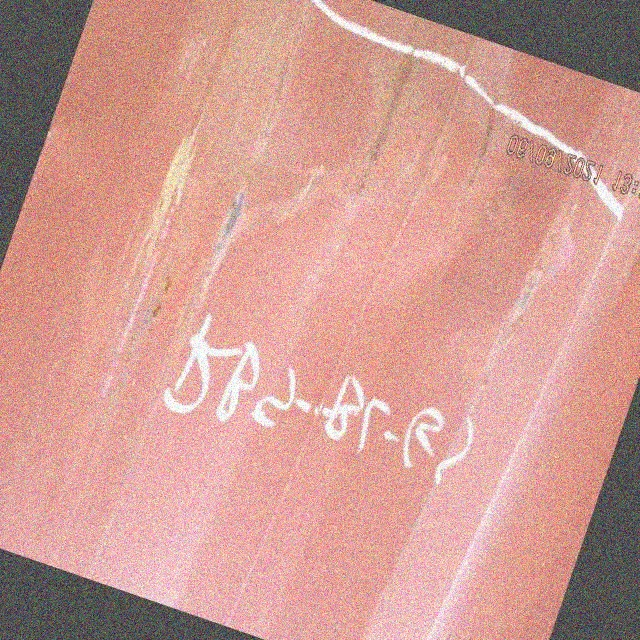Dent: (137, 1, 630, 507)
